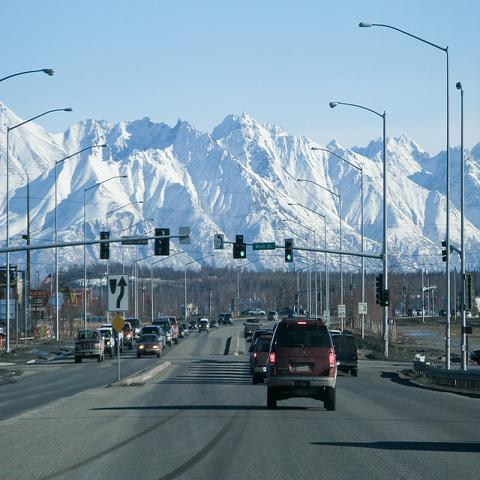car: (262, 318, 340, 411), (248, 335, 272, 386), (75, 330, 104, 363), (137, 334, 163, 360), (141, 326, 164, 350), (123, 321, 133, 350), (198, 319, 210, 333), (188, 320, 199, 331), (180, 323, 189, 336), (178, 326, 185, 340), (210, 320, 219, 328)
truck: (330, 331, 360, 378), (74, 331, 106, 365), (152, 316, 174, 347), (95, 327, 115, 359), (243, 318, 262, 338), (198, 315, 208, 330), (249, 308, 266, 316), (439, 310, 446, 316)
